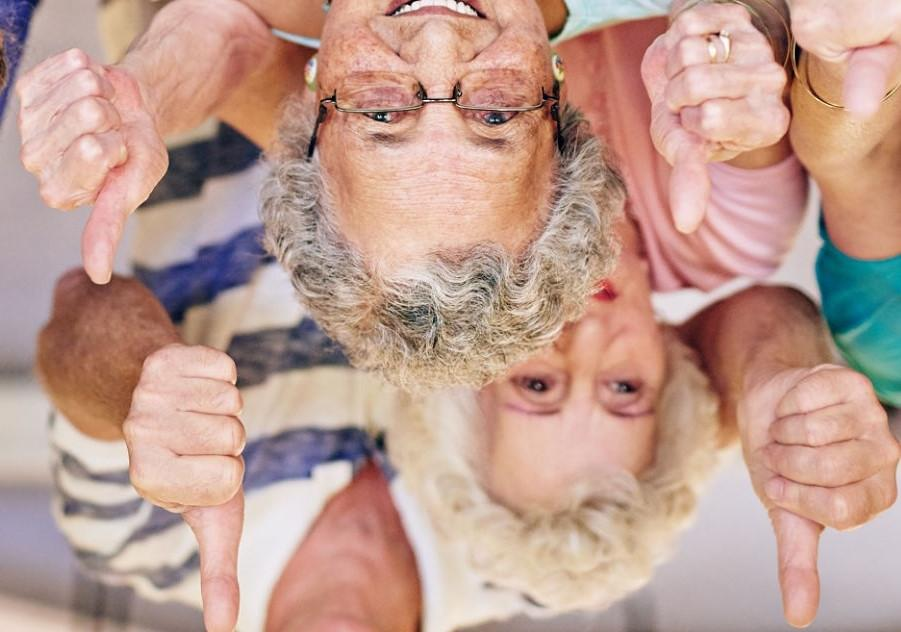thumbsdown: (758, 367, 901, 629), (120, 341, 248, 631), (657, 0, 788, 234), (16, 47, 144, 286)
